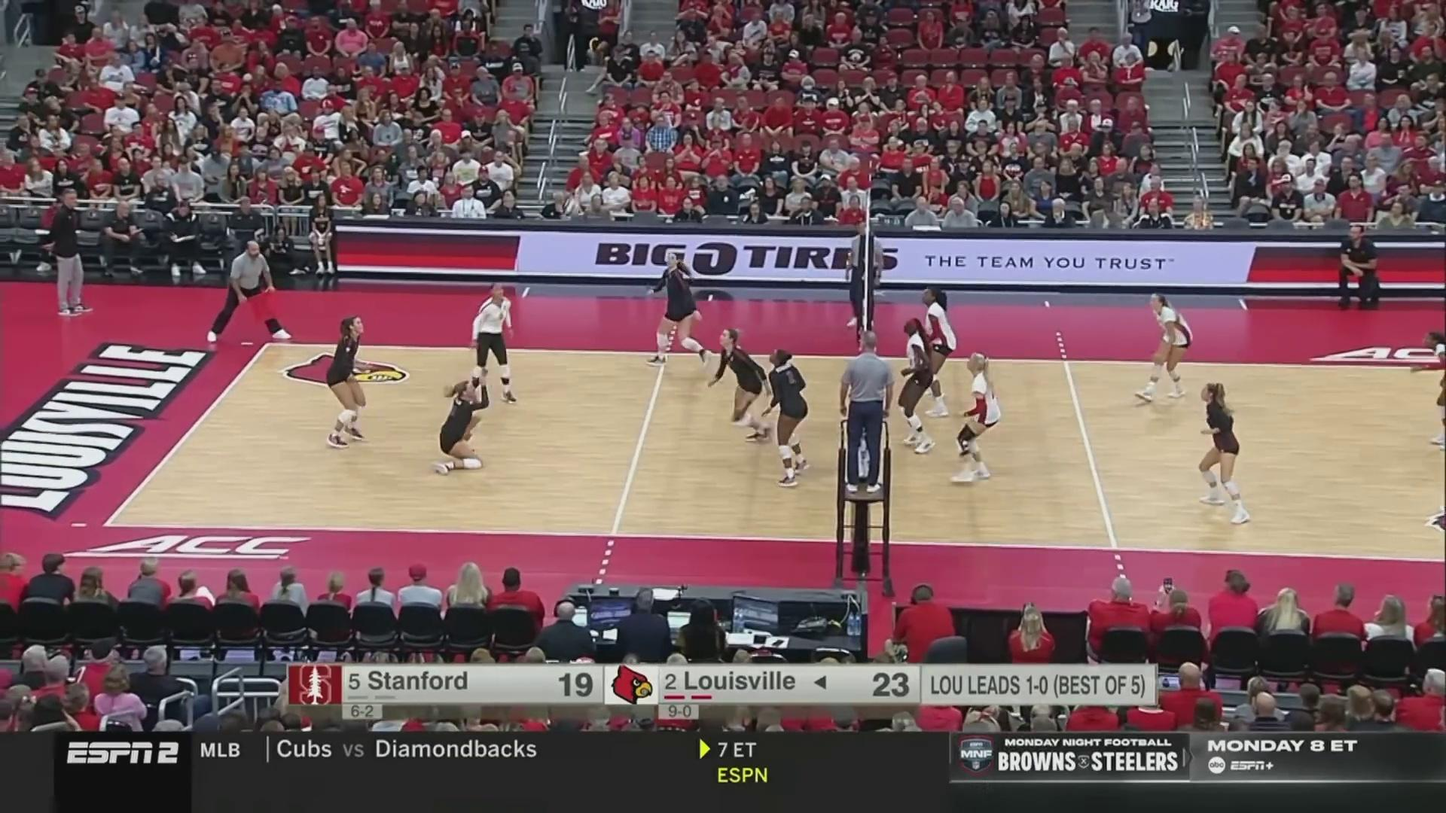player: (759, 344, 813, 485), (1197, 381, 1250, 523), (709, 328, 771, 443), (650, 254, 713, 365), (954, 354, 1003, 486), (1135, 293, 1194, 402), (432, 366, 491, 475), (323, 319, 369, 448), (468, 282, 516, 403), (920, 288, 960, 418), (899, 319, 935, 453), (1413, 330, 1446, 445)
refree: (210, 240, 293, 343), (839, 334, 893, 492), (845, 226, 885, 330)
